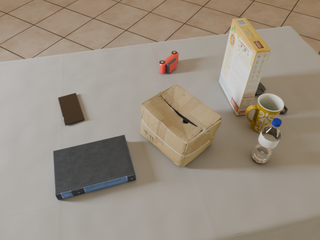book: (53, 135, 136, 200)
bottle: (252, 118, 282, 164)
box: (141, 85, 222, 167), (219, 18, 271, 115)
cup: (245, 94, 284, 133)
mouse: (255, 82, 266, 95)
phone: (58, 93, 84, 125)
toy_car: (160, 51, 179, 74)
